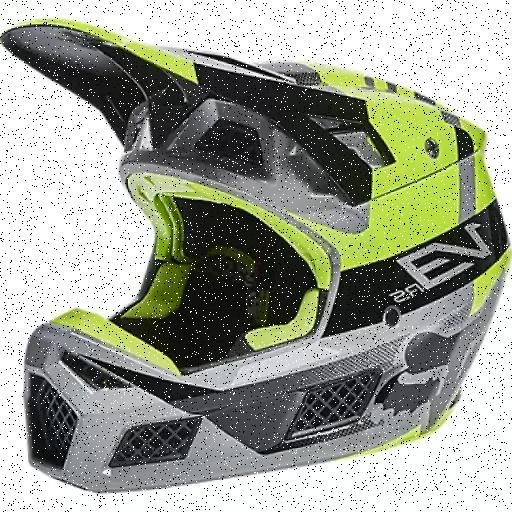Helmet: (2, 20, 510, 491)
